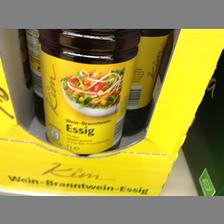Essig: (36, 28, 138, 152)
